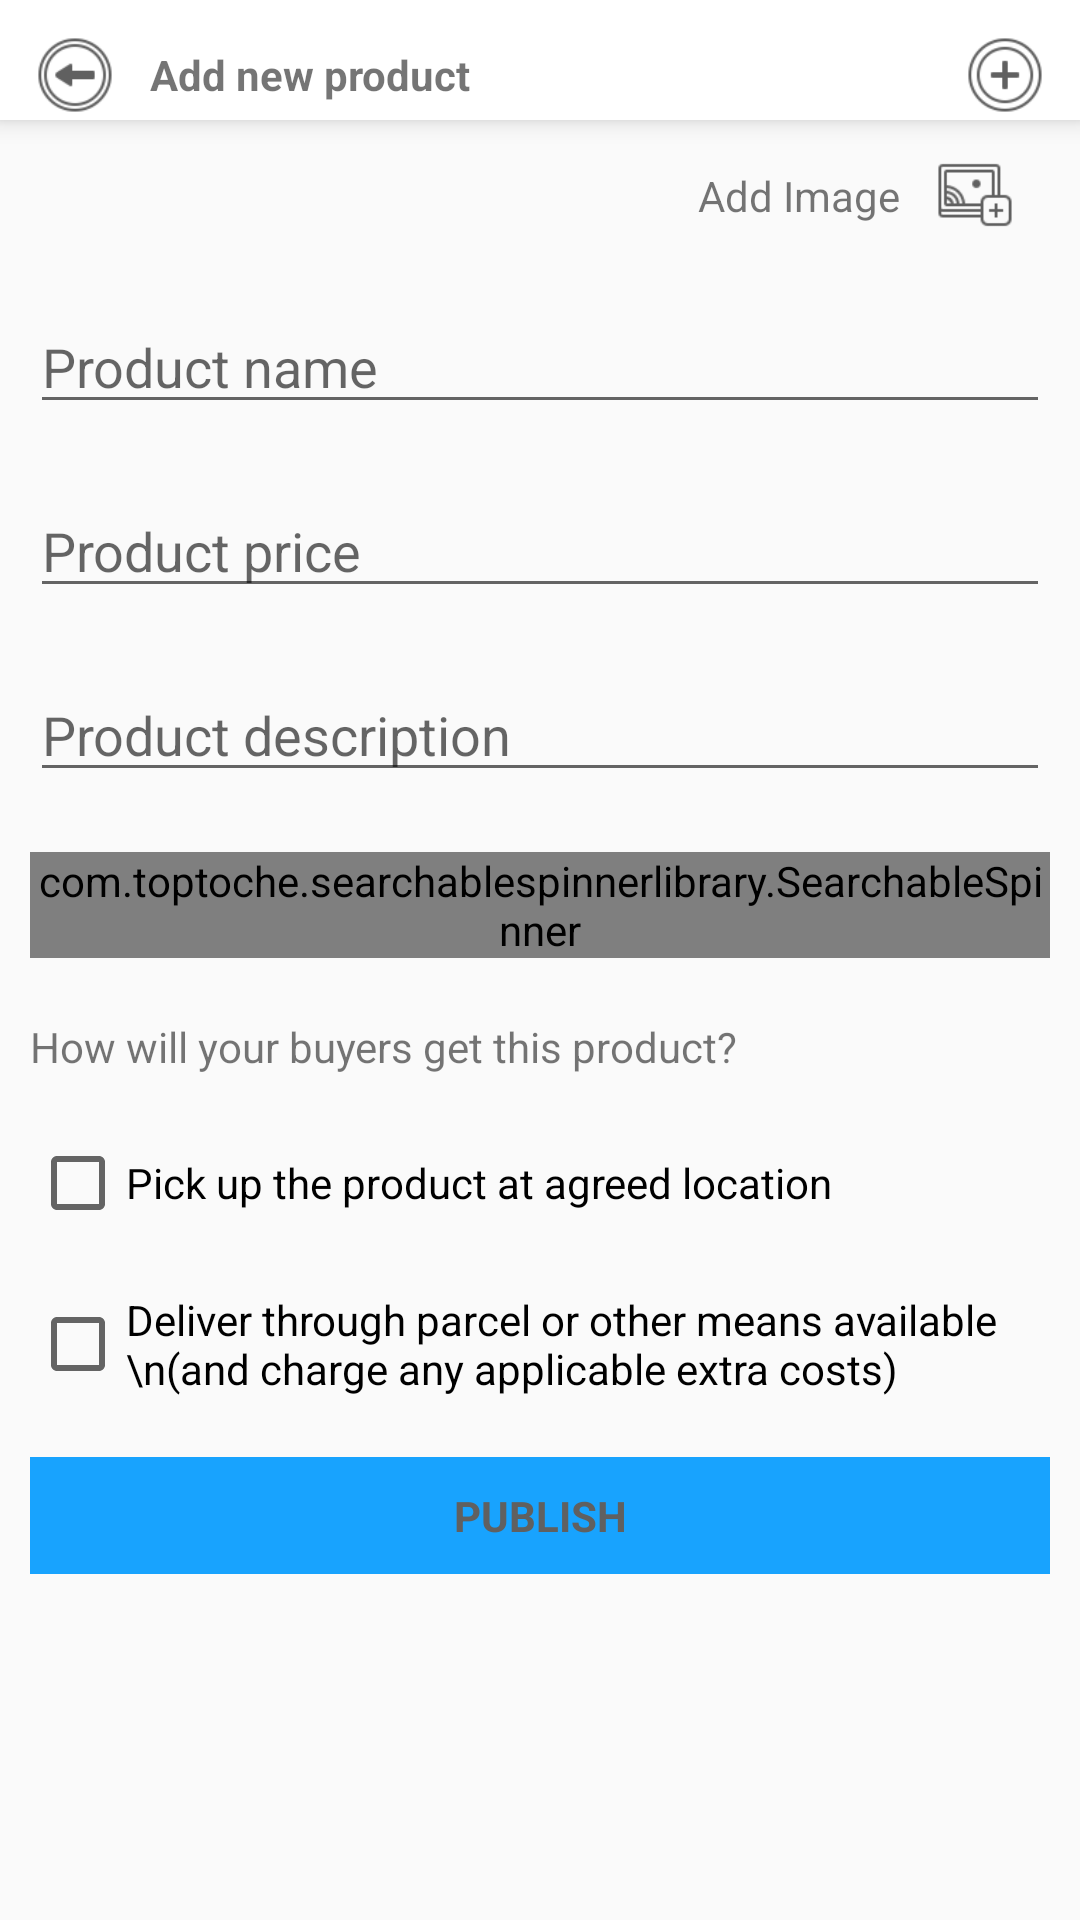

Screen size 1080x1920. Icon name, then its box in pixels as Rect(x1, y1, x2, y2):
back: Rect(38, 38, 112, 112)
plus: Rect(968, 38, 1042, 112)
